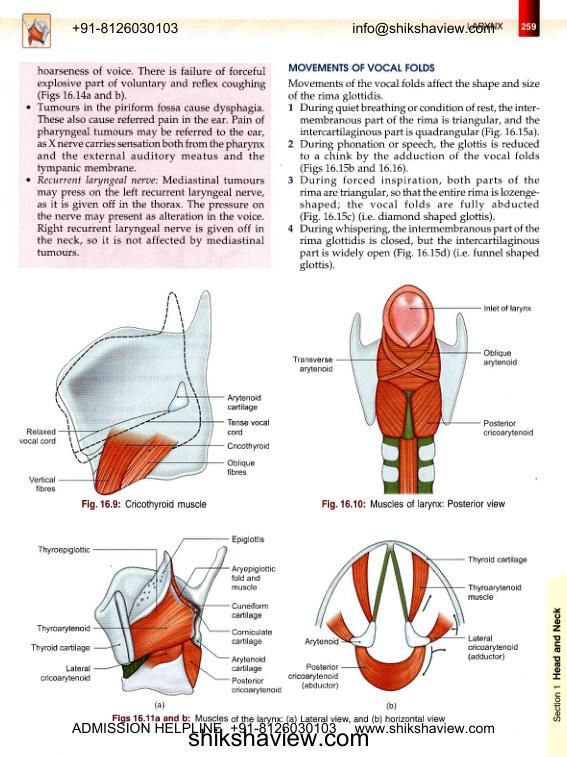caption: (111, 713, 446, 724), (321, 499, 506, 511), (80, 498, 208, 511), (153, 700, 165, 711), (385, 701, 397, 711)
image: (15, 282, 276, 498), (286, 281, 539, 497), (21, 524, 284, 712), (286, 524, 525, 712)
list: (23, 66, 268, 258), (286, 103, 541, 273)
sub-section-heading: (288, 61, 436, 73)
text: (286, 77, 540, 103)
